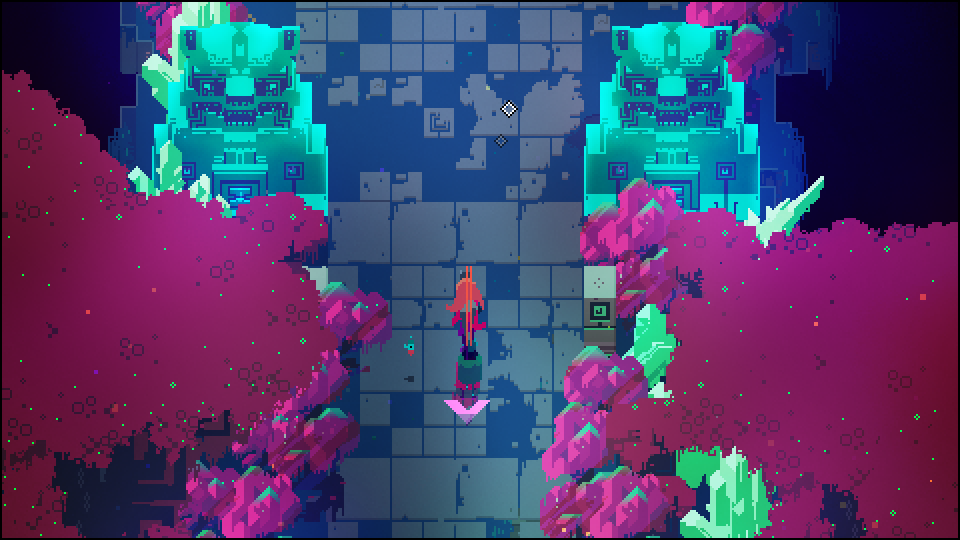player: (445, 267, 489, 330)
